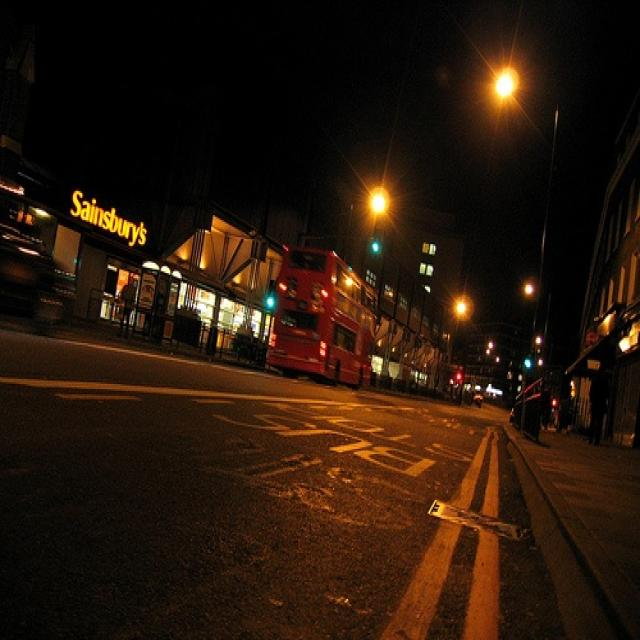bus: (268, 242, 378, 391)
